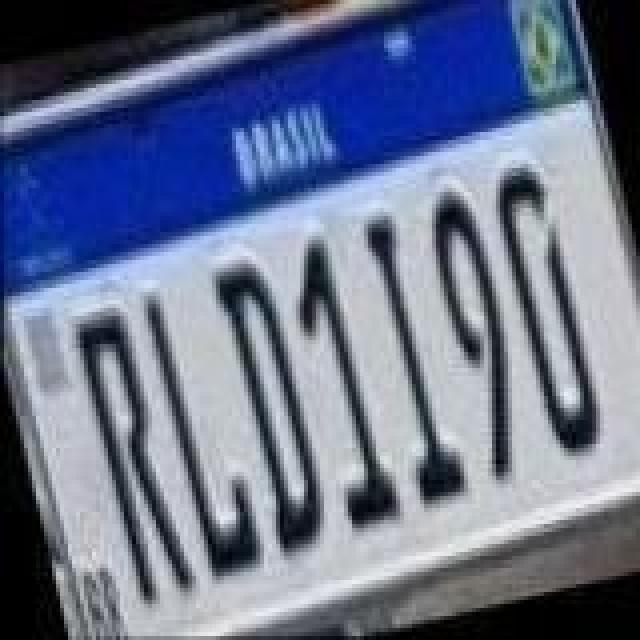1: (278, 228, 406, 536)
9: (416, 178, 540, 490)
D: (208, 252, 340, 560), (484, 150, 608, 466)
I: (350, 204, 470, 512)
L: (138, 278, 266, 582)
R: (68, 298, 200, 614)
